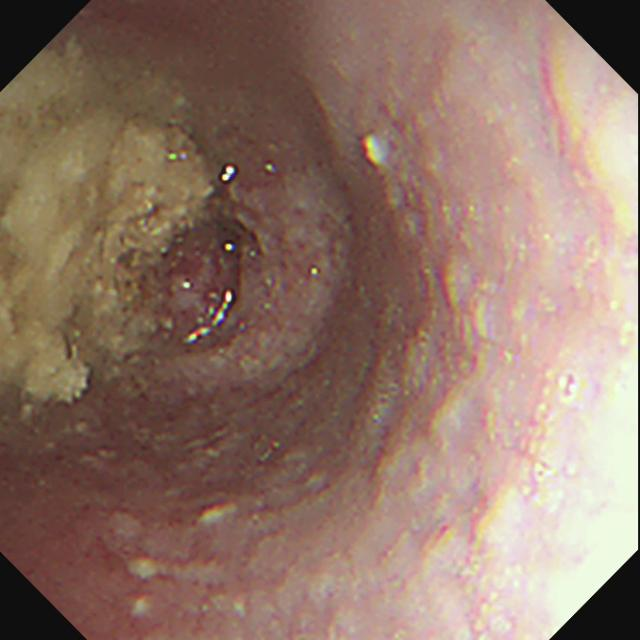B: (2, 57, 211, 406)
U: (187, 289, 235, 344), (220, 165, 238, 183)
